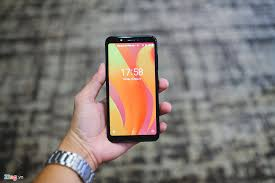vsmart: (102, 32, 163, 141)
